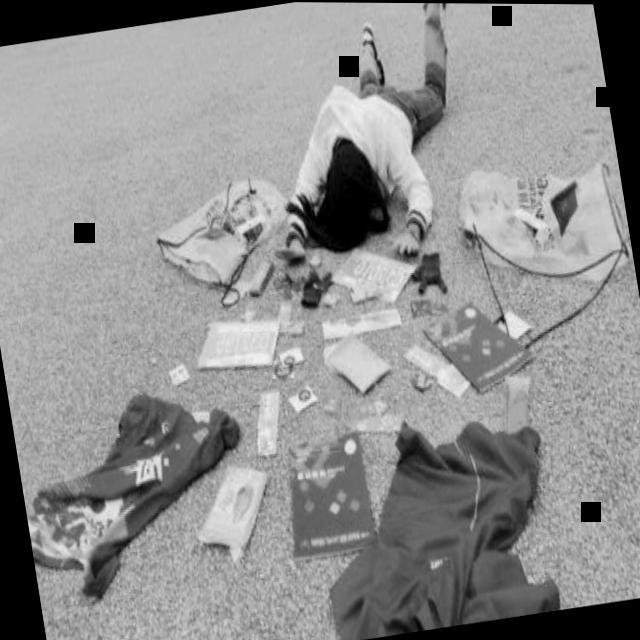Fall-Detected: (242, 1, 511, 280)
